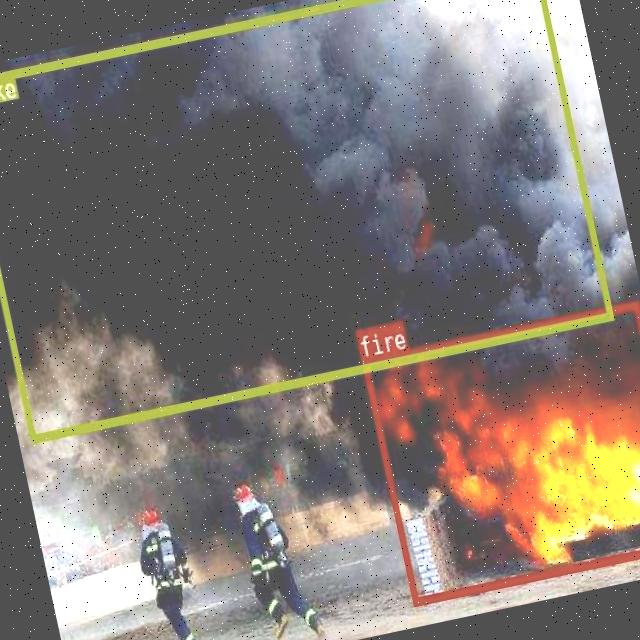fire: (361, 300, 640, 603)
smoke: (0, 0, 612, 441)
